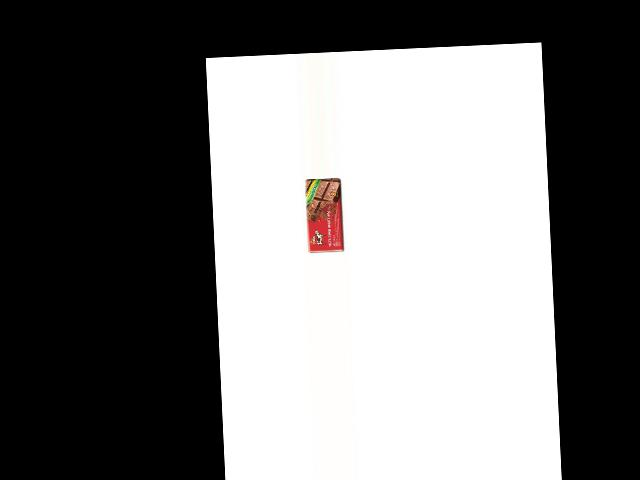chocolate: (304, 177, 345, 254)
